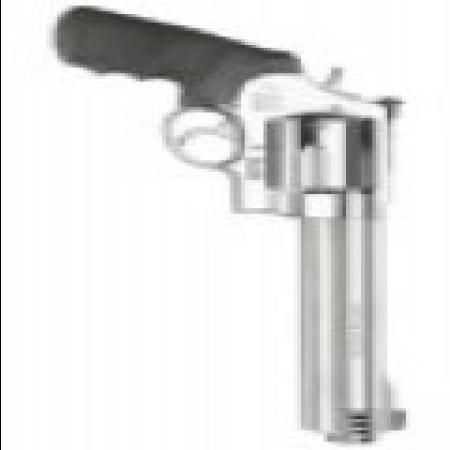Pistol: (53, 3, 408, 439)
